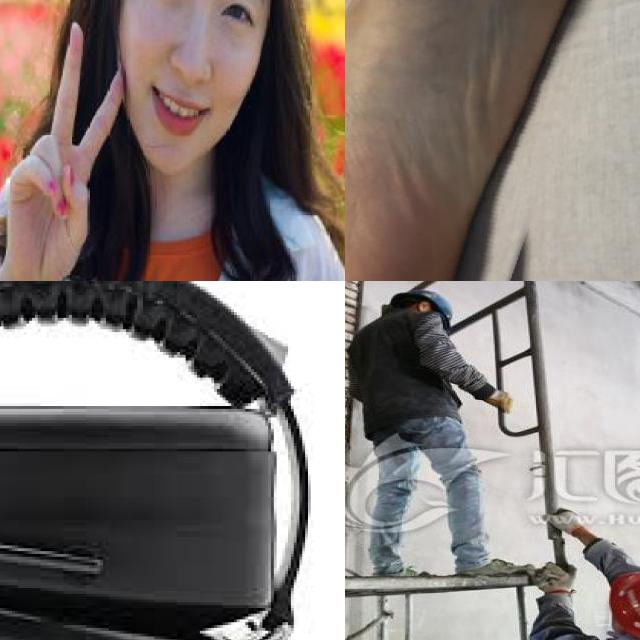Barefoots: (345, 0, 573, 281)
Ear-protection: (0, 389, 285, 625)
No_Glasses: (134, 0, 259, 42)
face_nomask: (113, 0, 266, 157)
hand_glove: (525, 560, 580, 594), (540, 502, 584, 537), (485, 383, 515, 417)
hand_noglove: (0, 14, 129, 275)
head_helmet: (605, 565, 640, 640), (395, 285, 460, 322)
person: (345, 281, 523, 580)
shoes: (448, 546, 528, 581), (365, 551, 431, 585)
